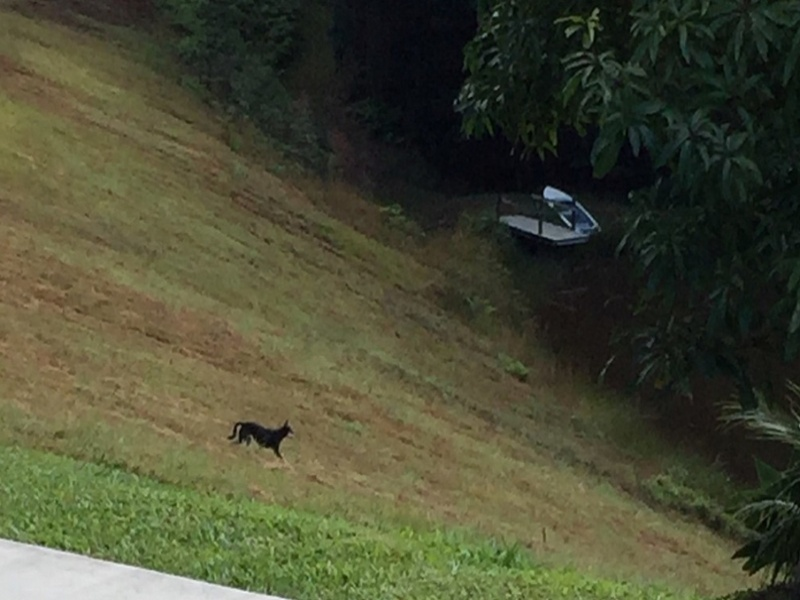dog: (226, 419, 300, 466)
